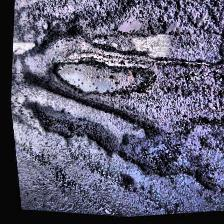pothole: (18, 94, 142, 168), (41, 47, 159, 111), (10, 37, 38, 57)
